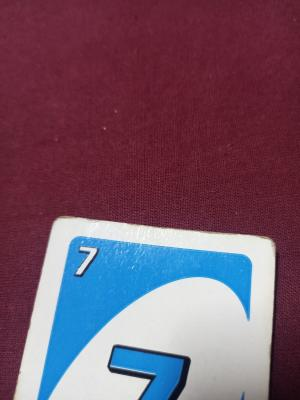blue: (56, 243, 248, 400)
num_7: (70, 237, 110, 288)
